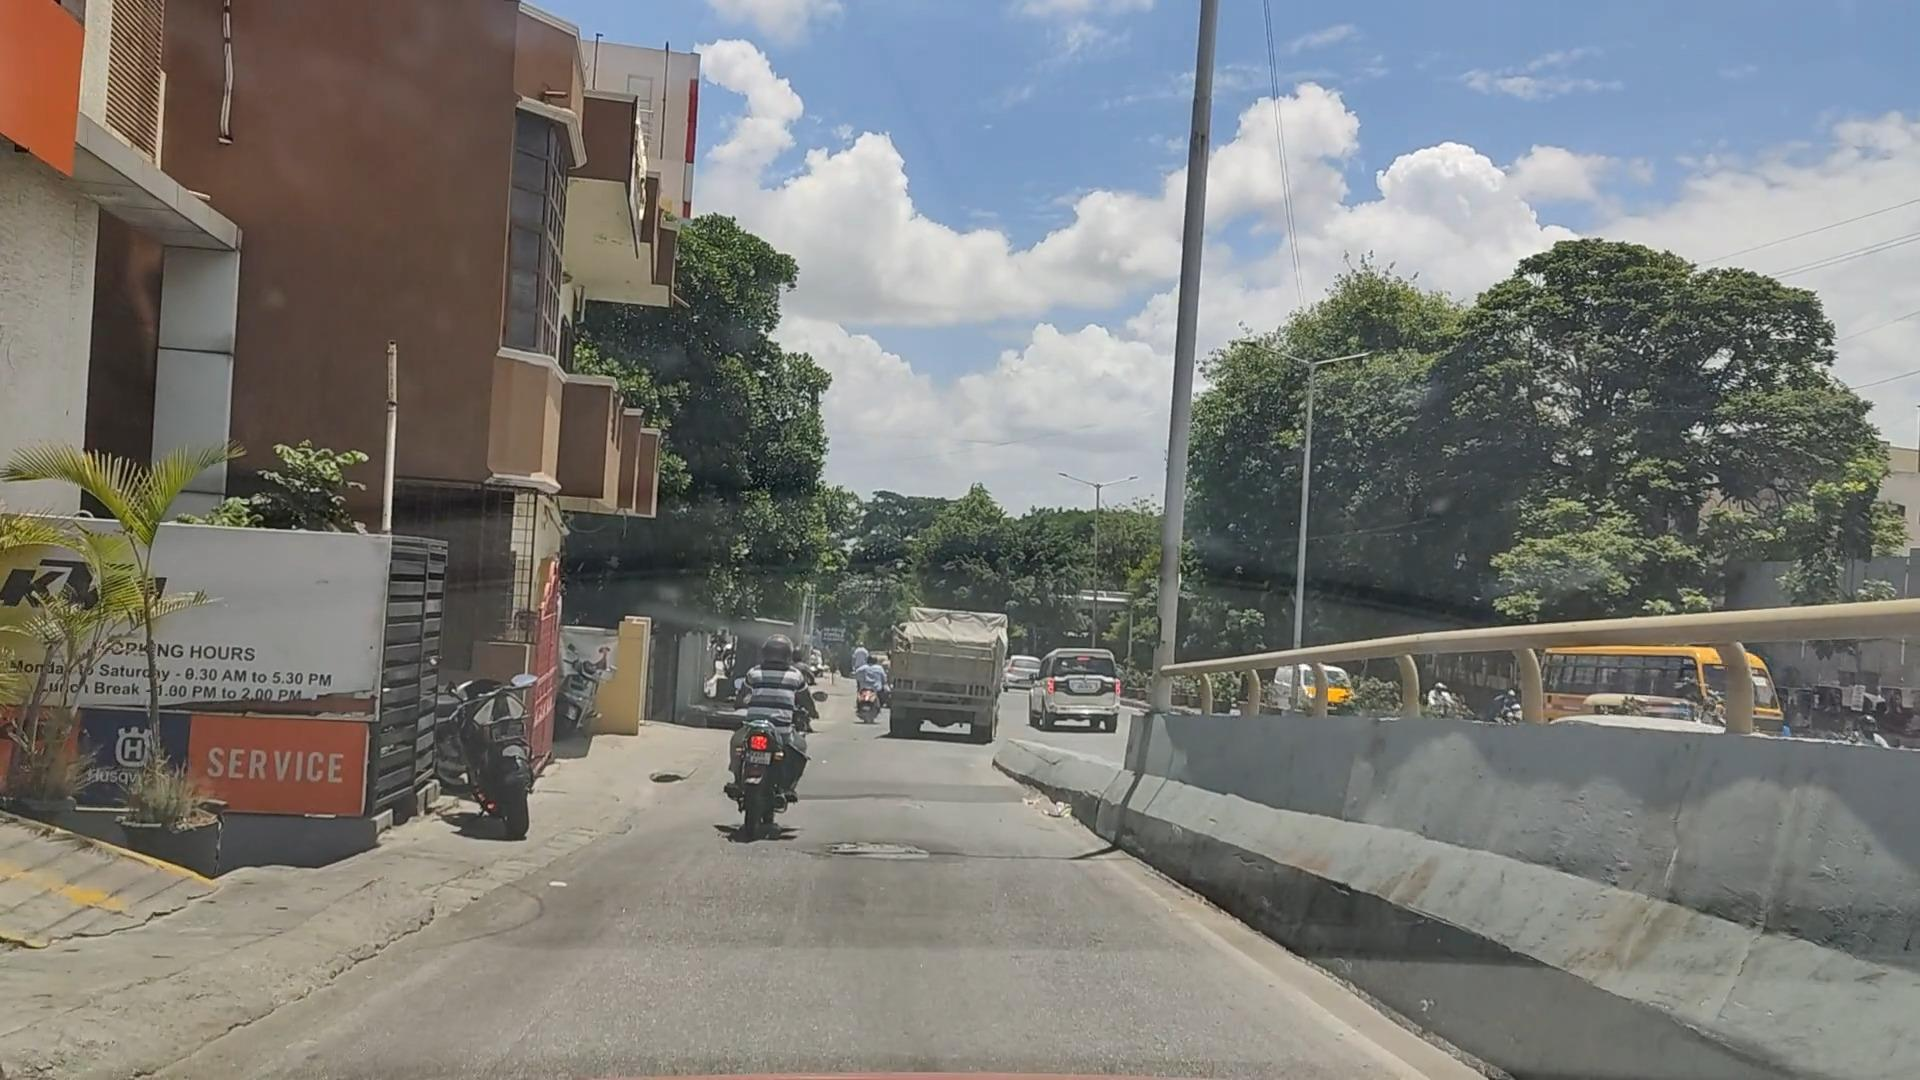HMV: (880, 604, 1022, 762)
RoadDamages: (820, 812, 953, 878), (637, 753, 721, 810)
